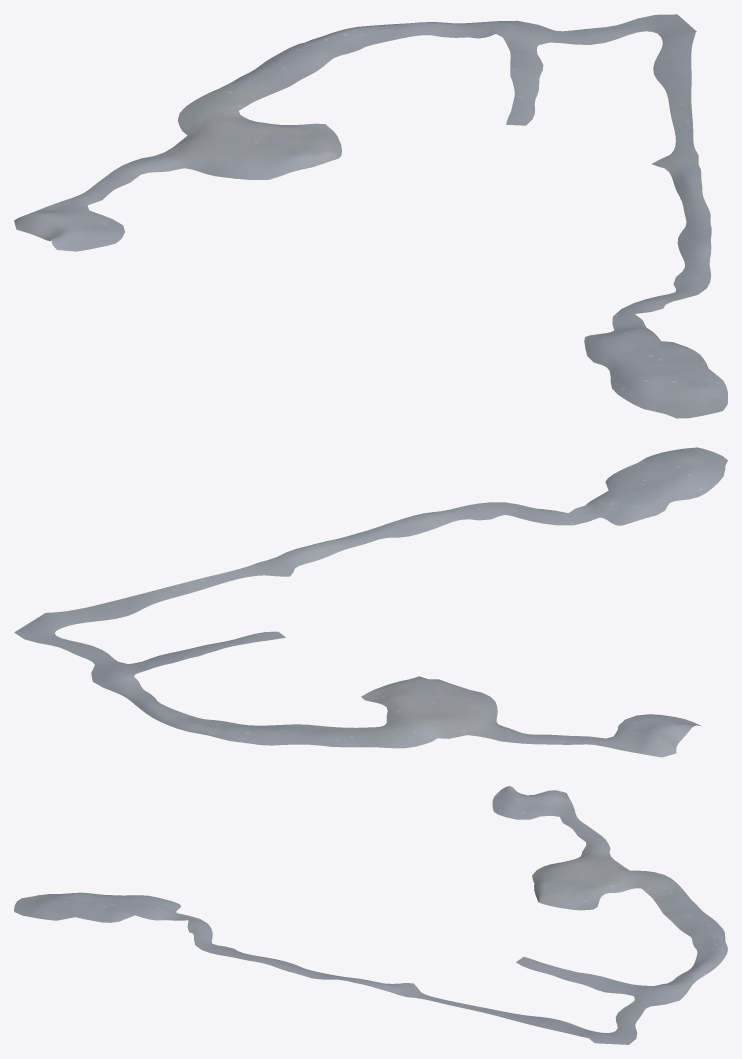
The model's file is pref_sm_beach_winter_blocksnow05_lv3.fbx.
3 views of the same model, one above another, from view 1: azimuth 30°, elevation 25°; view 2: azimuth 150°, elevation 25°; view 3: azimuth 270°, elevation 25° (orthographic). The views are drawn at different scales.
Visible parts, largest first — view 1: pref_sm_beach_winter_blocksnow05_lv3; view 2: pref_sm_beach_winter_blocksnow05_lv3; view 3: pref_sm_beach_winter_blocksnow05_lv3.
Part boxes in pixels (bbox=[...]): pref_sm_beach_winter_blocksnow05_lv3: bbox=[14, 14, 727, 418]; pref_sm_beach_winter_blocksnow05_lv3: bbox=[14, 447, 727, 757]; pref_sm_beach_winter_blocksnow05_lv3: bbox=[14, 786, 727, 1044].
Bounding box in the file's own units: 20.32 × 0.3376 × 23.91.
